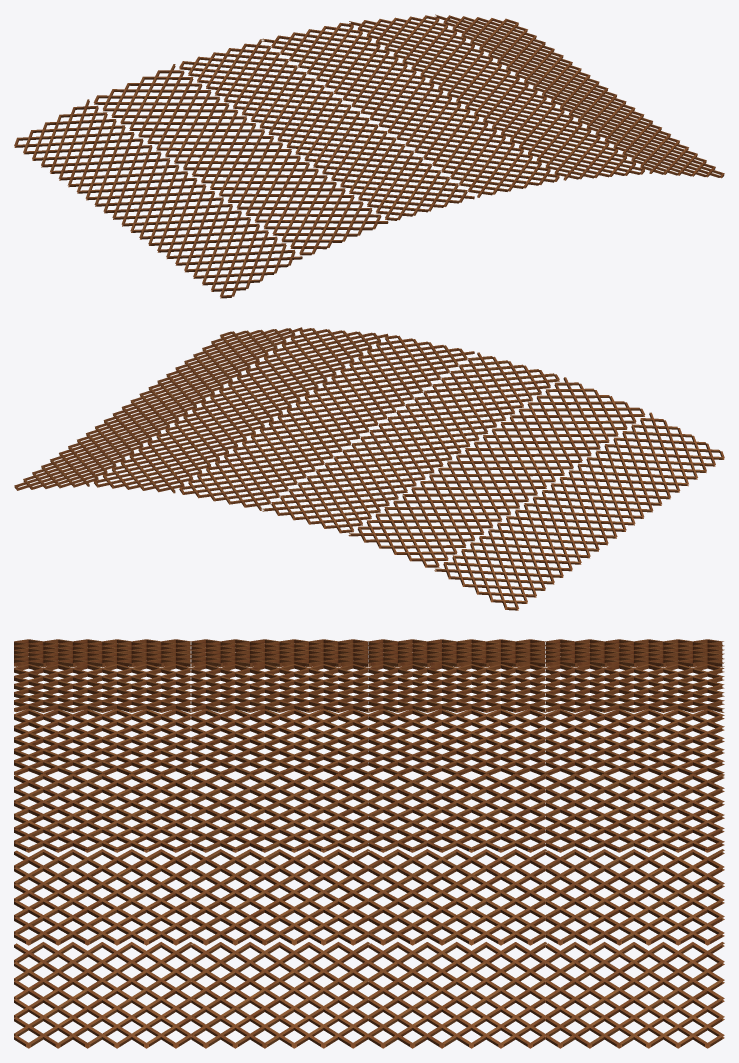
Rendered from GardenPergola01Grid1.FBX.
The picture shows the model from 3 angles, top to bottom: view 1: azimuth 30°, elevation 25°; view 2: azimuth 150°, elevation 25°; view 3: azimuth 270°, elevation 25°; orthographic projection. The views are drawn at different scales.
Parts seen in each view (by area): view 1: GardenPergola01Grid1; view 2: GardenPergola01Grid1; view 3: GardenPergola01Grid1.
Part boxes in pixels (x1,y1,x2,y2): GardenPergola01Grid1: (14, 14, 724, 298); GardenPergola01Grid1: (14, 327, 724, 610); GardenPergola01Grid1: (14, 639, 724, 1048).
Size of what is drawn, in the model's own units: 4.35 by 0.3592 by 3.21.
